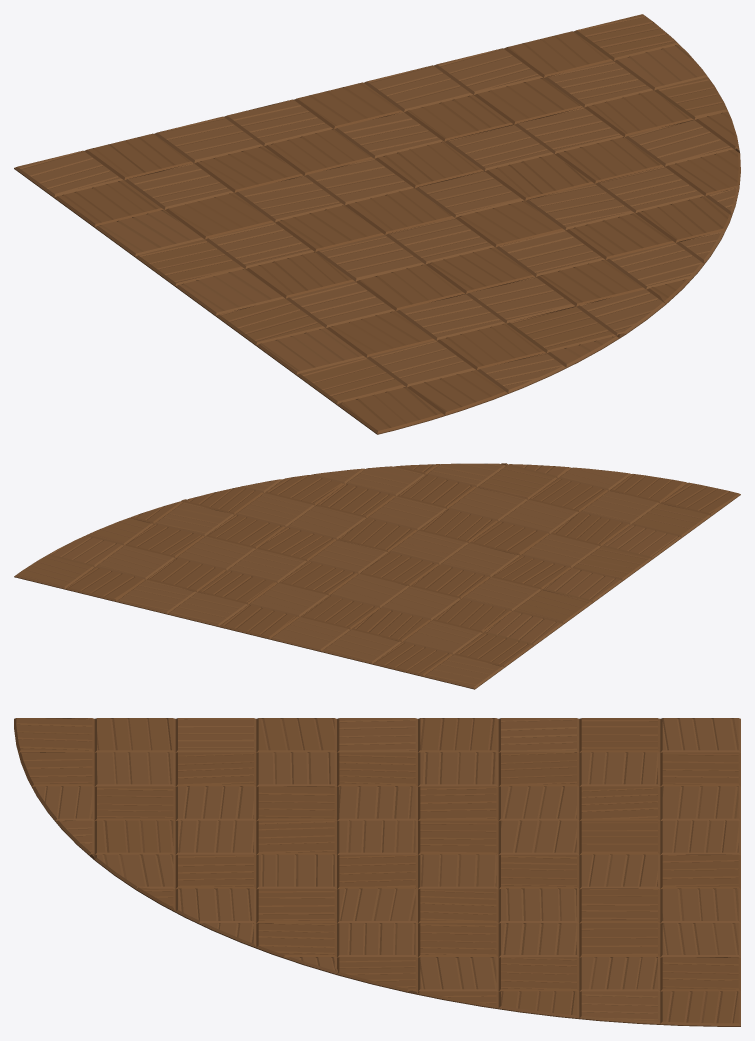
File: Wood_Floor_Corner.glb
The picture shows the model from 3 angles, top to bottom: view 1: azimuth 30°, elevation 25°; view 2: azimuth 150°, elevation 25°; view 3: azimuth 270°, elevation 25°; orthographic projection. The views are drawn at different scales.
Visible parts, largest first — view 1: Wood_Floor_Corner; view 2: Wood_Floor_Corner; view 3: Wood_Floor_Corner.
Part boxes in pixels (x1,y1,x2,y2): Wood_Floor_Corner: [14, 14, 740, 434]; Wood_Floor_Corner: [14, 463, 740, 689]; Wood_Floor_Corner: [14, 718, 740, 1026].
Bounding box in the file's own units: 3.07 × 0.012 × 3.07.
